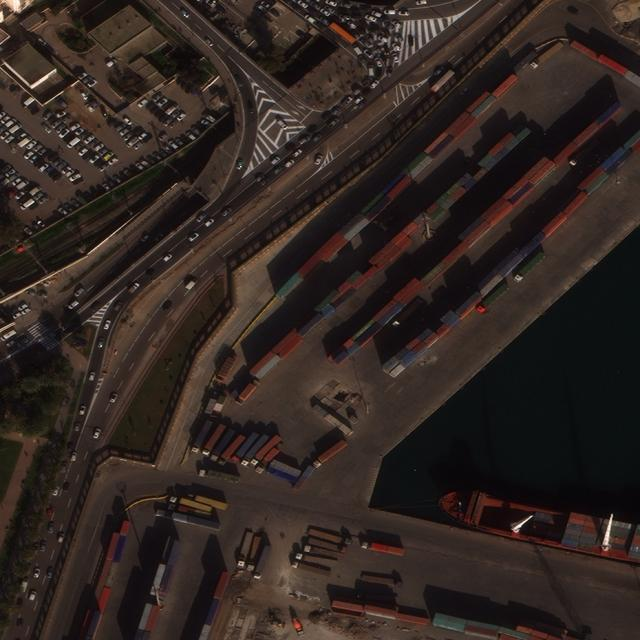Container Ship: (439, 486, 639, 565)
